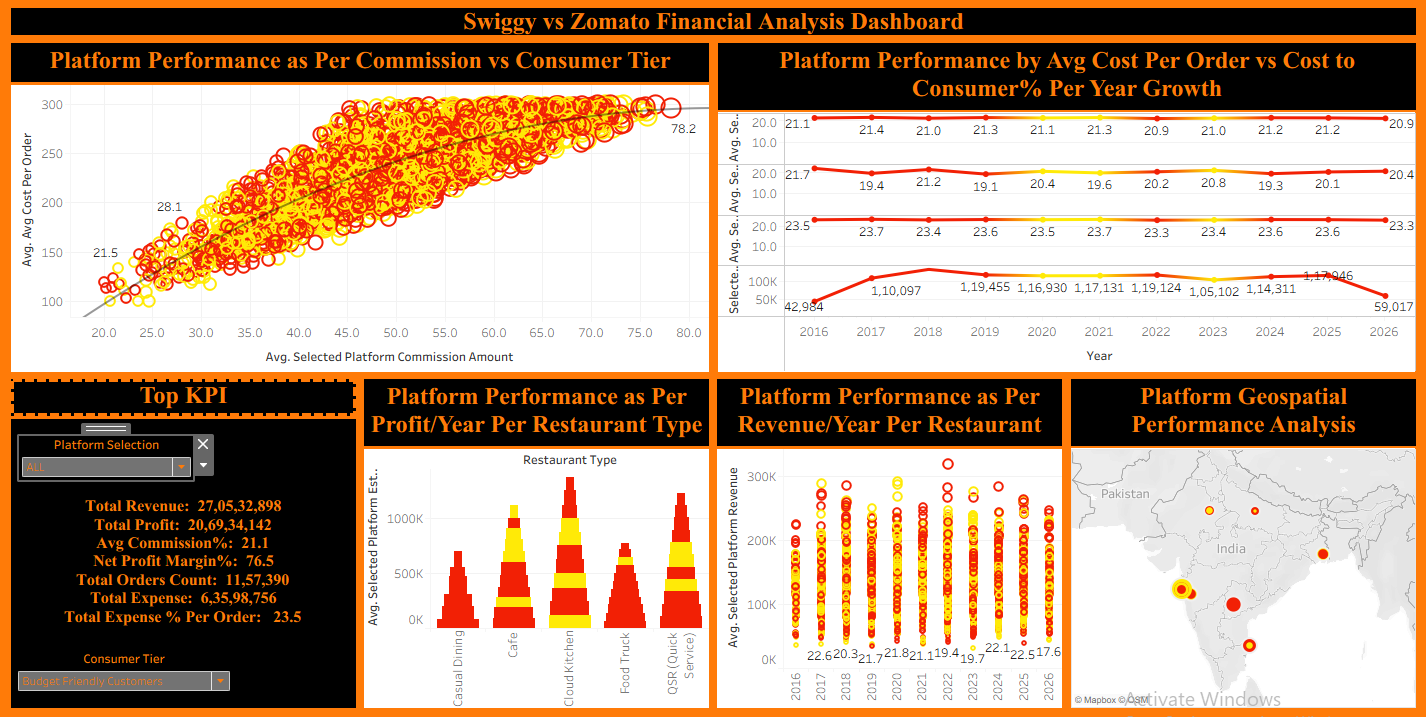

The page's visual inventory and layout, read from the dashboard file:
{"tool":"tableau","page":{"name":"Swiggy vs Zomato Financial Analysis Dashboard","canvas":[1000,1000],"units":"permille","ordinal":4},"visuals":[{"type":"title","box":[5.8,11.1,988.5,48.3]},{"type":"worksheet","title":"Platform Performance as Per Commission vs Consumer Tier","mark":"Automatic","rows":["Avg Cost Per Order"],"cols":["Calculation_0850790460686338"],"box":[5.8,59.4,494.2,464.8]},{"type":"worksheet","title":"Platform Performance by Avg Cost Per Order vs Cost to Consumer% Per Year Growth","mark":"Automatic","rows":["Calculation_0811207701889026","Calculation_0827427283996672","Calculation_0850790460403713","Calculation_0562167627137029"],"cols":["Listing Date"],"box":[500,59.4,494.2,464.8]},{"type":"worksheet","title":"Top KPI","mark":"Automatic","box":[5.8,524.2,247.1,464.8]},{"type":"worksheet","title":"Platform Performance as Per Profit/Year Per Restaurant Type","mark":"Automatic","rows":["Calculation_0740288849022978"],"cols":["Restaurant_Type"],"box":[252.8,524.2,247.1,464.8]},{"type":"worksheet","title":"Platform Performance as Per Revenue/Year Per Restaurant","mark":"Shape","rows":["Calculation_0562167626235908"],"cols":["Listing Date"],"box":[499.9,524.2,247.1,464.8]},{"type":"worksheet","title":"Platform Geospatial Performance Analysis","mark":"Automatic","box":[747.1,524.2,247.2,464.8]},{"type":"parameter","param":"[Parameters].[Parameter 2]","box":[13.8,607.7,122.3,60.8]},{"type":"parameter","param":"[Parameters].[Parameter 1]","box":[11.3,903.7,152.4,74.3]}]}

Visuals, with their boxes on the dashboard's canvas, which has no fixed pixel size, in thousandths of its width and height (x1, y1, x2, y2). These are canvas units, not pixel positions in the 1426x717 screenshot, which may show the page scaled, cropped or inside an application window:
title: <bbox>6, 11, 994, 59</bbox>
"Platform Performance as Per Commission vs Consumer Tier" worksheet: <bbox>6, 59, 500, 524</bbox>
"Platform Performance by Avg Cost Per Order vs Cost to Consumer% Per Year Growth" worksheet: <bbox>500, 59, 994, 524</bbox>
"Top KPI" worksheet: <bbox>6, 524, 253, 989</bbox>
"Platform Performance as Per Profit/Year Per Restaurant Type" worksheet: <bbox>253, 524, 500, 989</bbox>
"Platform Performance as Per Revenue/Year Per Restaurant" worksheet (Shape marks): <bbox>500, 524, 747, 989</bbox>
"Platform Geospatial Performance Analysis" worksheet: <bbox>747, 524, 994, 989</bbox>
parameter: <bbox>14, 608, 136, 668</bbox>
parameter: <bbox>11, 904, 164, 978</bbox>
